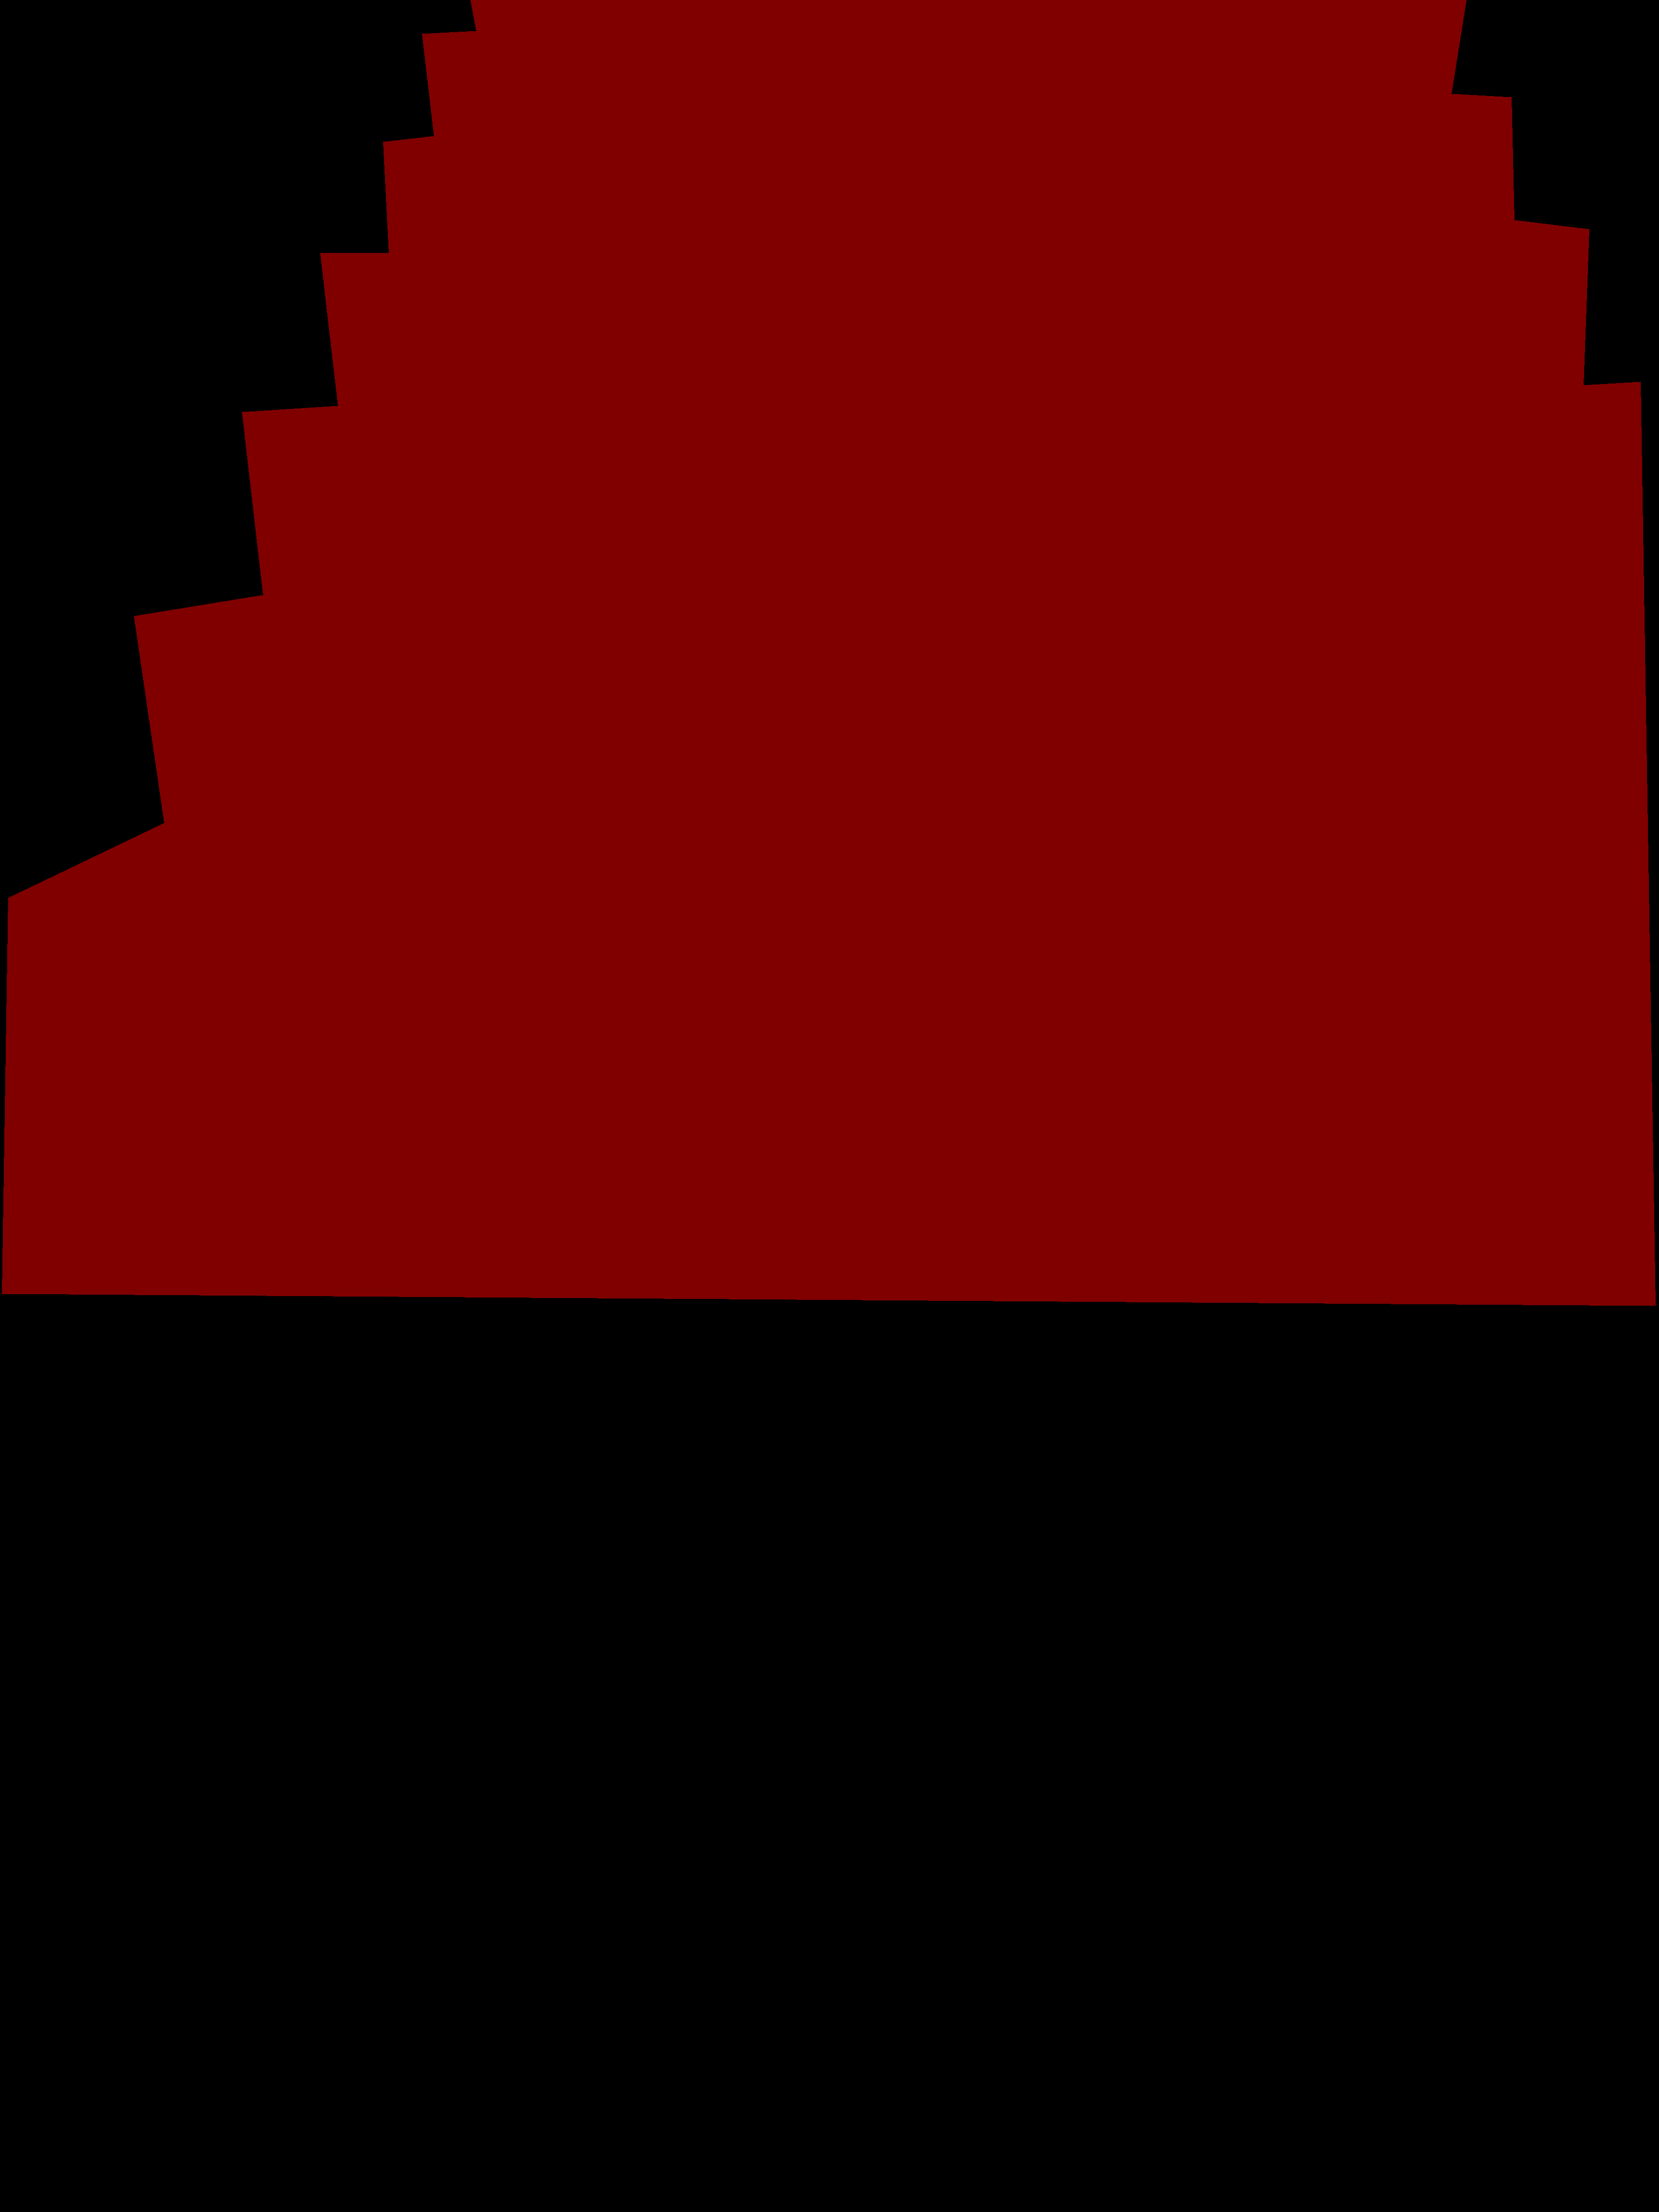stair: (2, 0, 1656, 1306)
